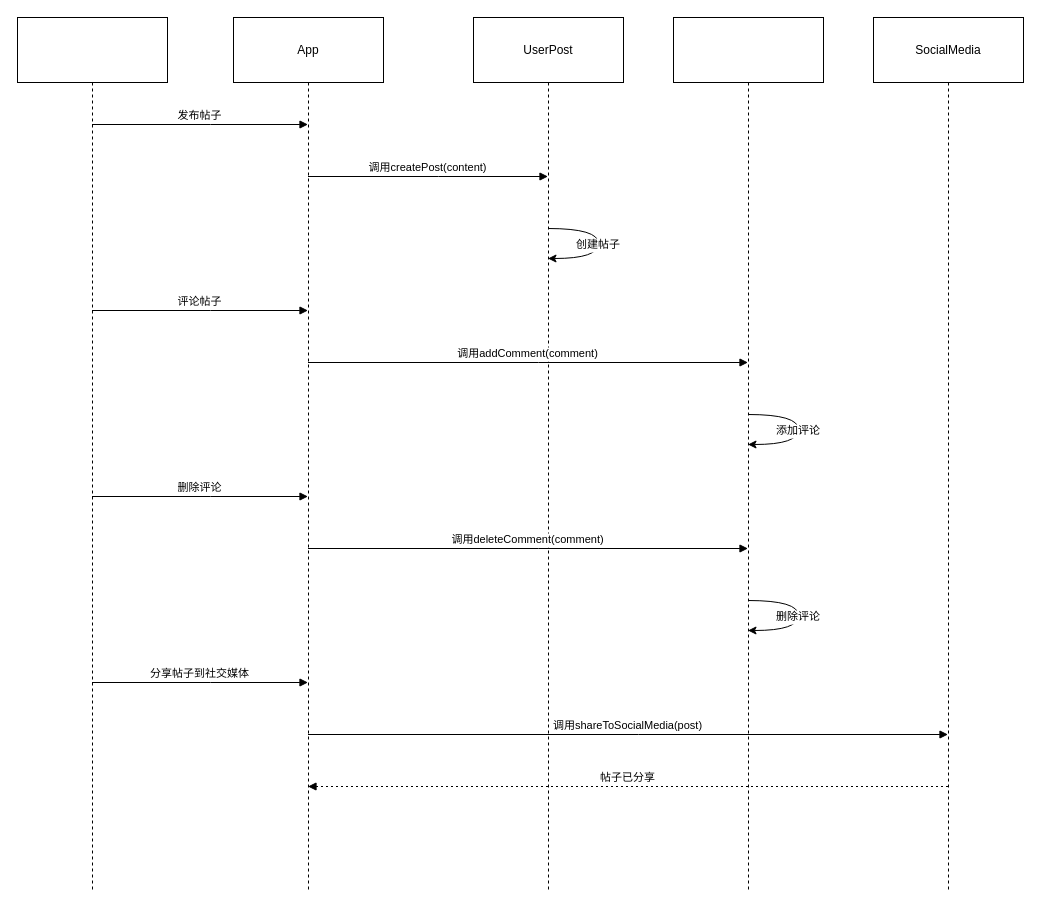
Some shapes in this 1041 by 909 pixel diagram are drawn without their labels. Here are the shapes that lost their labels. From the top down, the box of each, then its label:
(16, 16, 168, 892): User
(672, 16, 824, 892): UserComment
